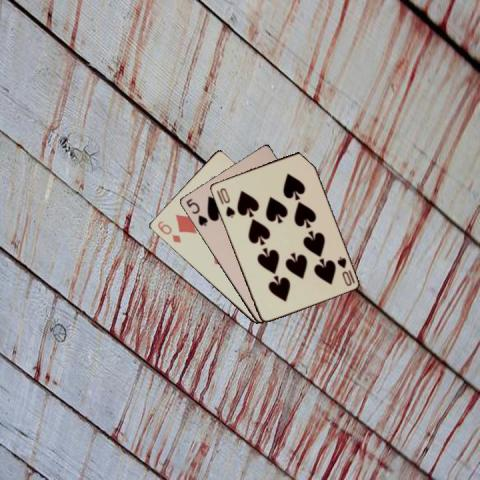10s: (217, 184, 236, 218), (334, 254, 353, 288)
5s: (183, 196, 209, 228)
6d: (155, 217, 182, 244)
